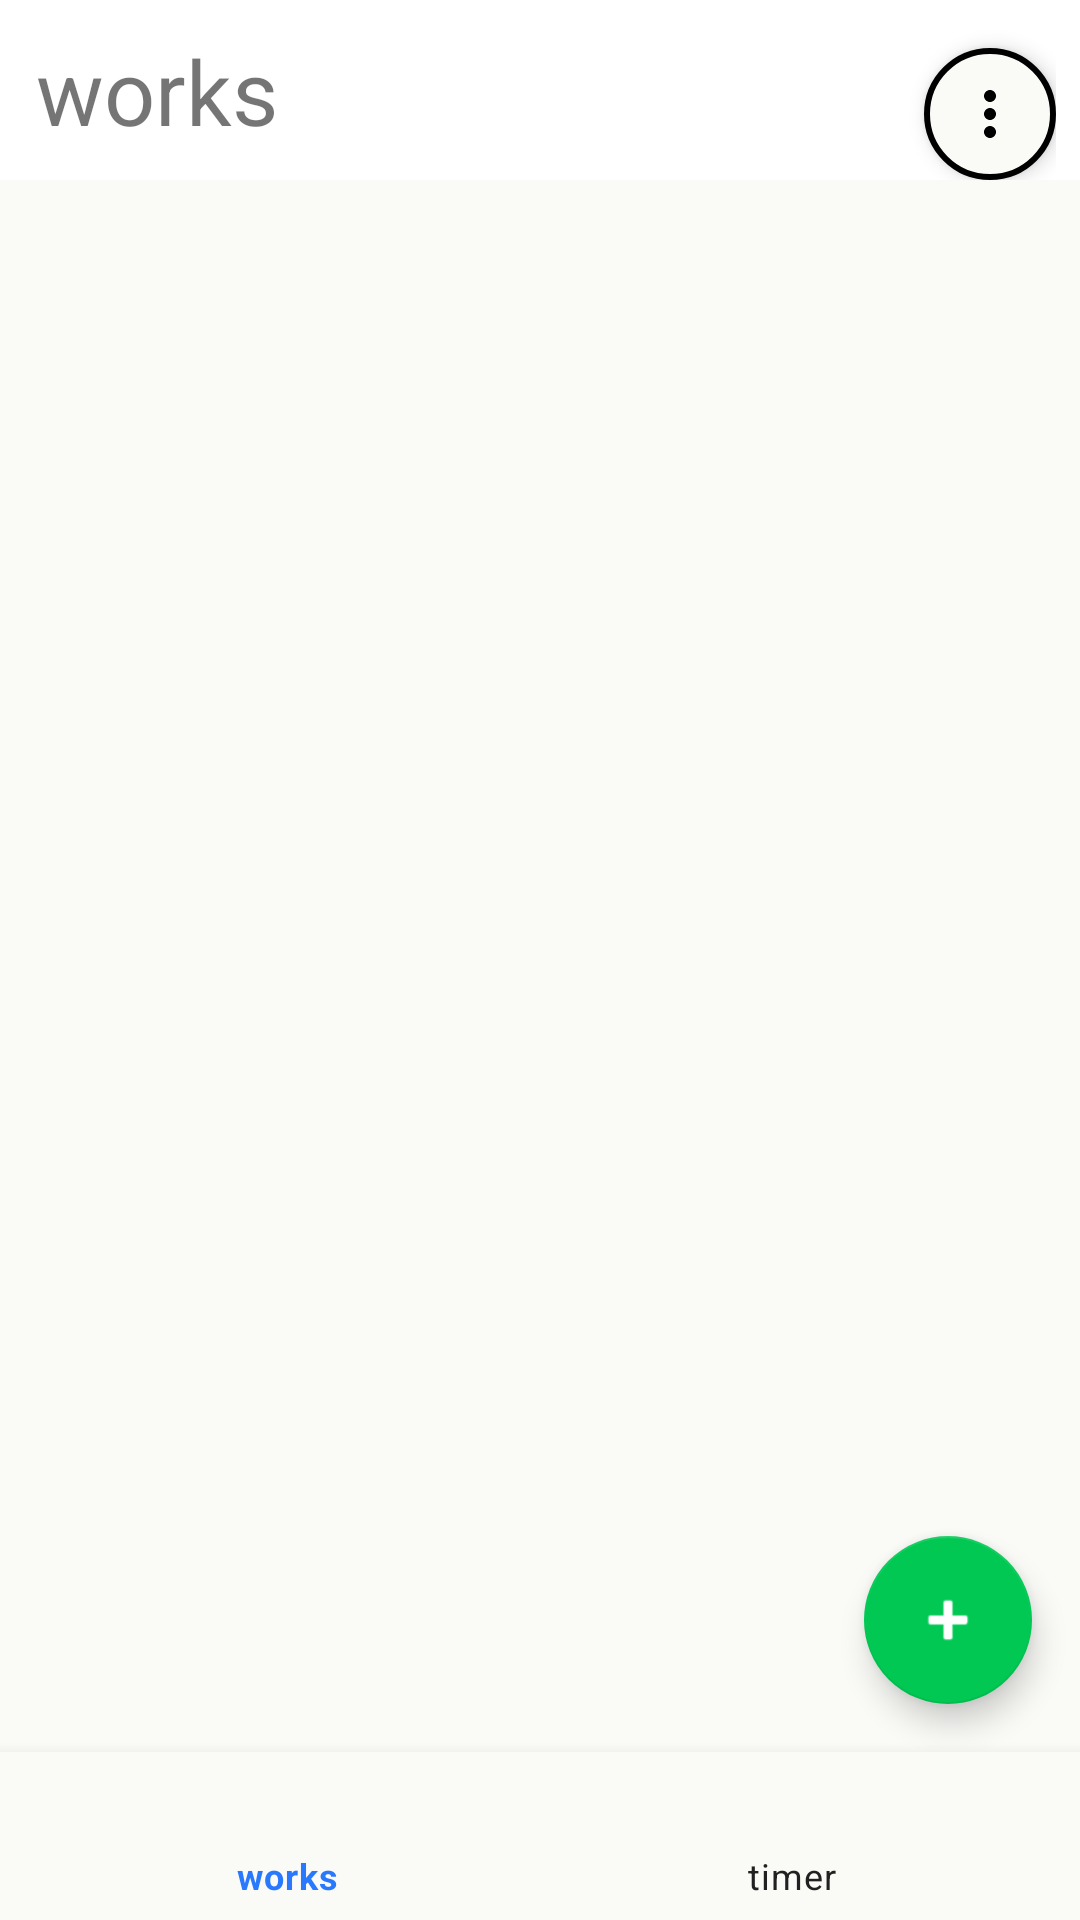

Icons on this 1080x1920 Android screen, each with its box as bbox=[x1, y1, x2, y2]:
add: bbox=[864, 1536, 1032, 1704]
more vert: bbox=[924, 48, 1056, 180]
